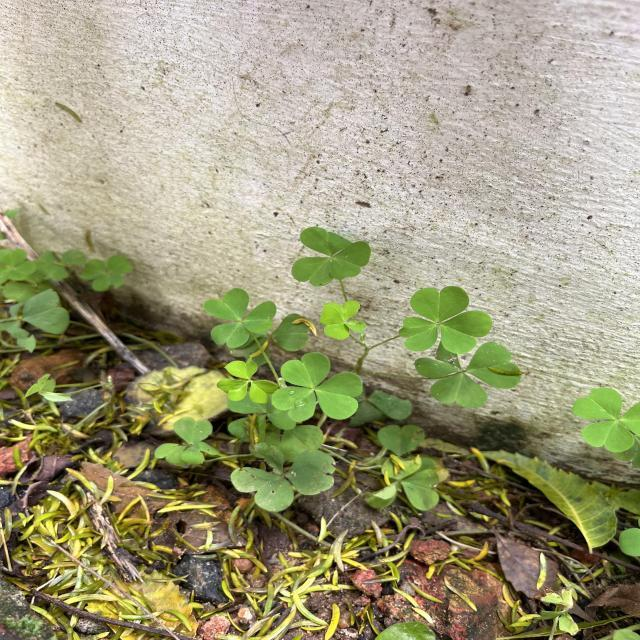Oxalis corniculata: (414, 341, 522, 408), (270, 351, 364, 425), (230, 448, 337, 512), (398, 284, 493, 356), (290, 225, 372, 288), (202, 286, 278, 350), (571, 386, 640, 454), (153, 415, 216, 467), (216, 356, 279, 404), (318, 300, 368, 341)
